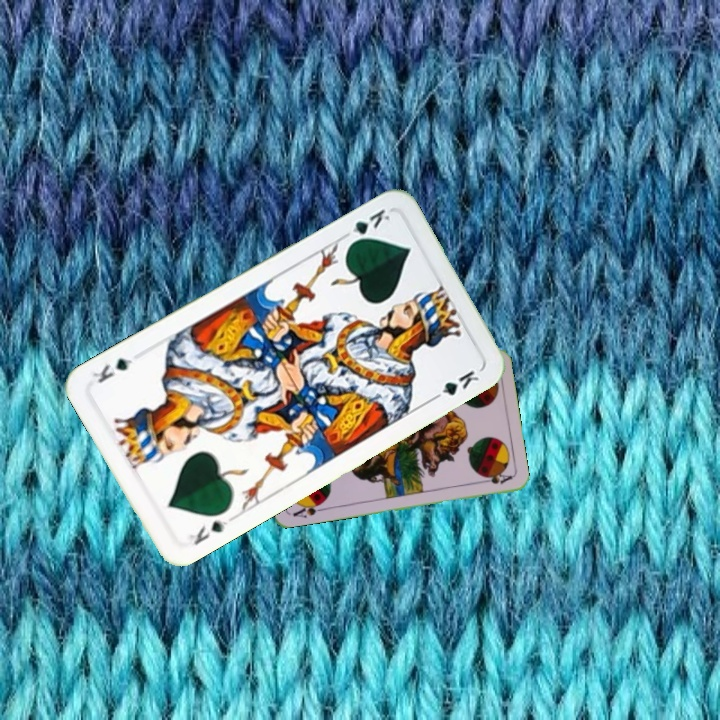GK: (338, 204, 393, 248), (184, 513, 235, 548)
SA: (289, 498, 327, 521)
